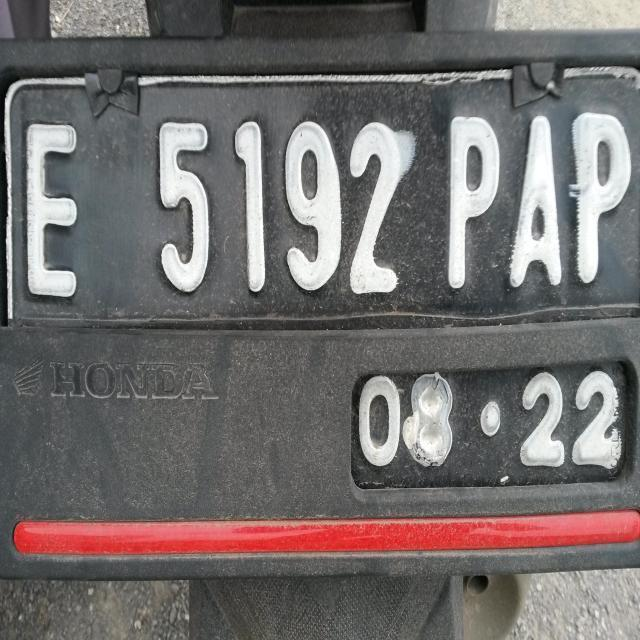1: (226, 102, 276, 302)
2: (344, 112, 412, 320)
5: (143, 102, 222, 308)
9: (280, 104, 344, 310)
E: (13, 104, 90, 310)
P: (568, 101, 634, 298), (440, 103, 502, 305)
S: (506, 101, 568, 303)
